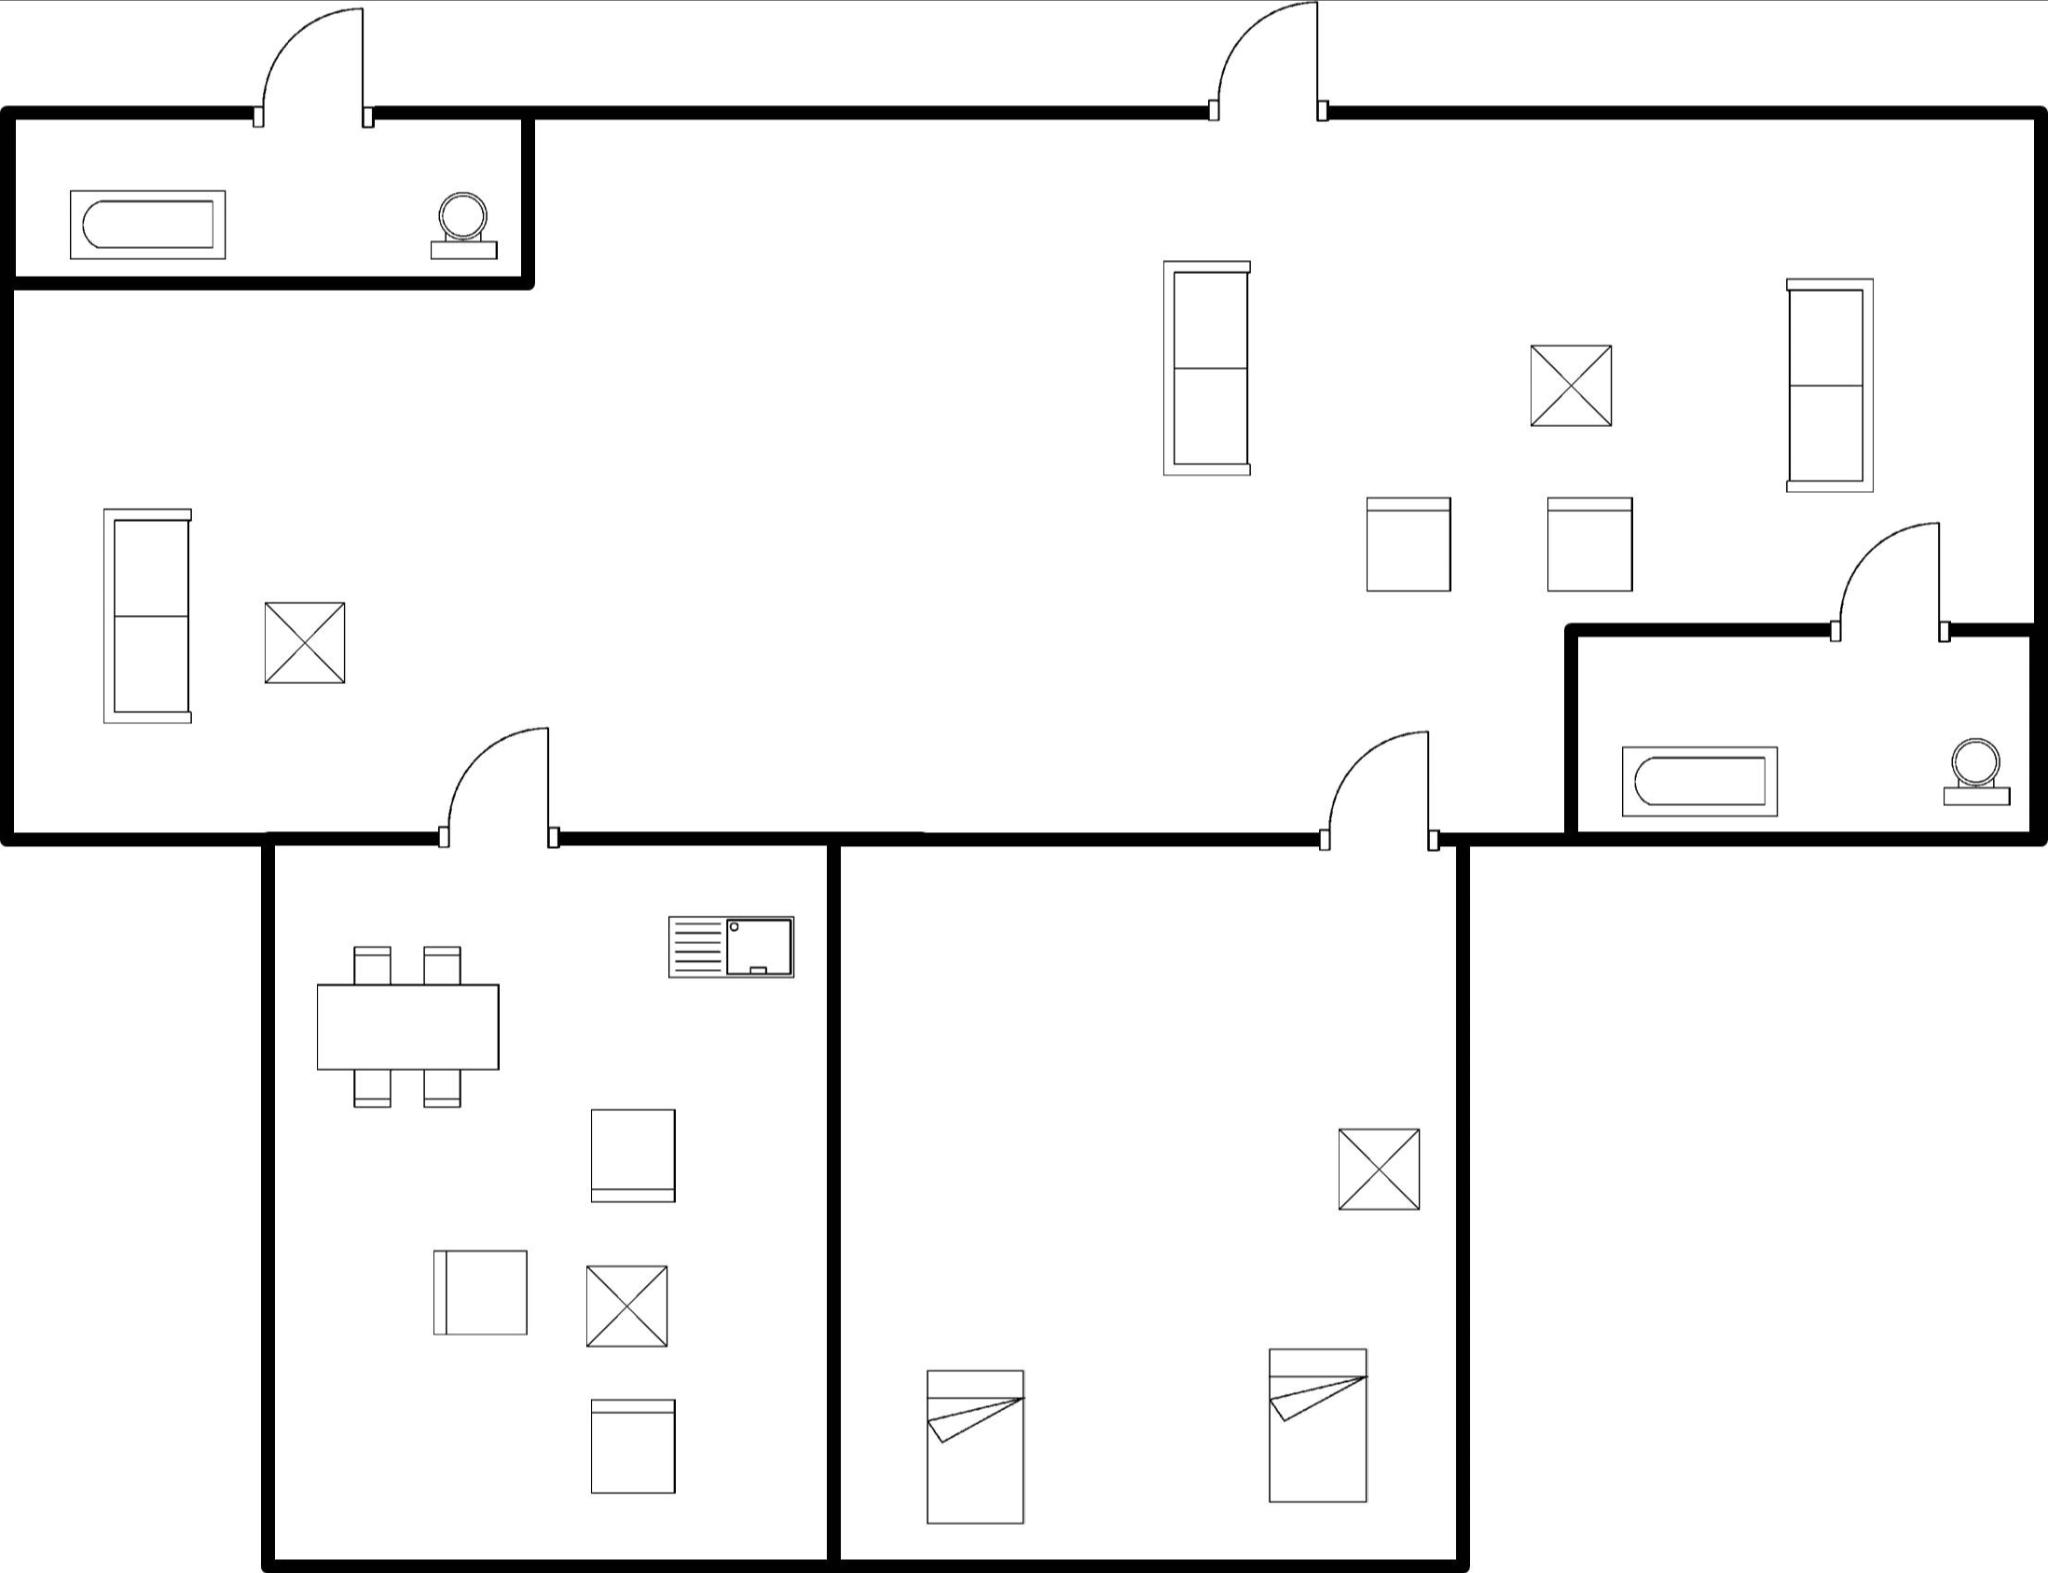bed: (917, 1358, 1039, 1537), (1257, 1337, 1381, 1512)
dining_table: (306, 932, 512, 1125)
sink: (652, 894, 806, 993)
sofa: (1772, 268, 1886, 502), (96, 494, 206, 735), (1154, 249, 1263, 486)
toilet: (1926, 729, 2018, 816), (424, 187, 507, 269)
tub: (1610, 732, 1789, 823), (61, 180, 238, 271)
